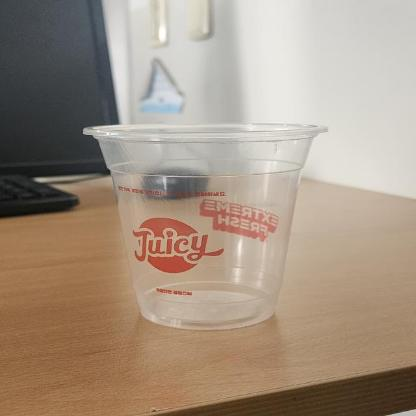Plastic Cup: (82, 121, 332, 329)
